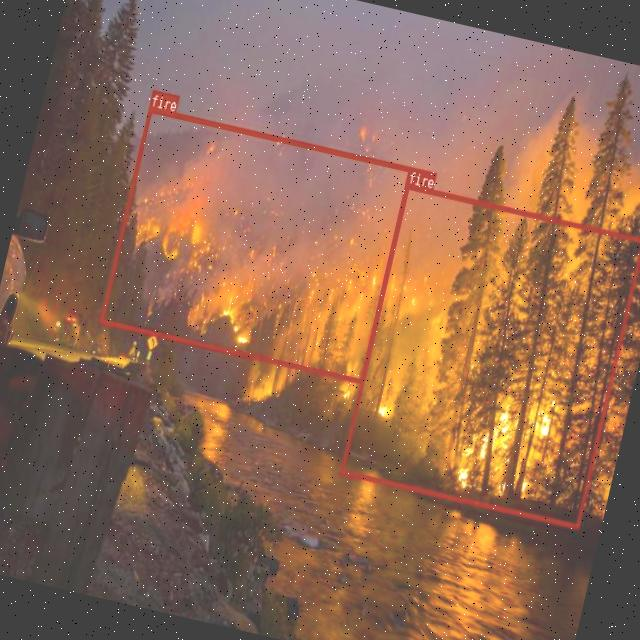fire: (338, 182, 640, 527), (98, 106, 412, 383)
